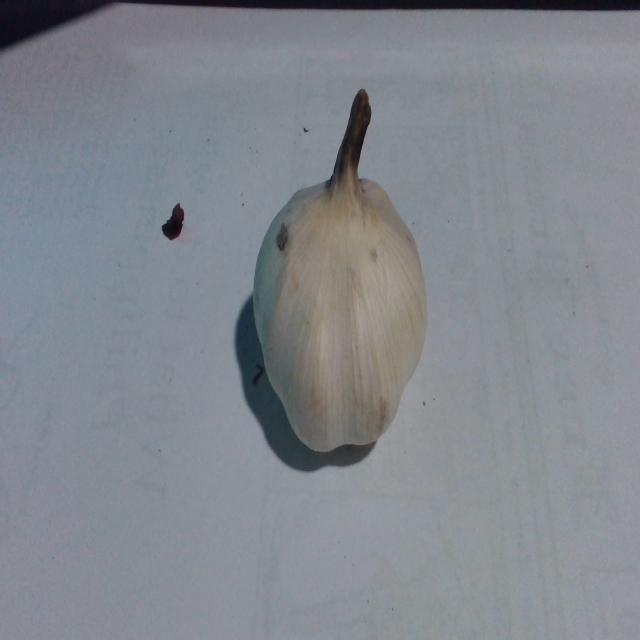garlic: (248, 161, 430, 461)
